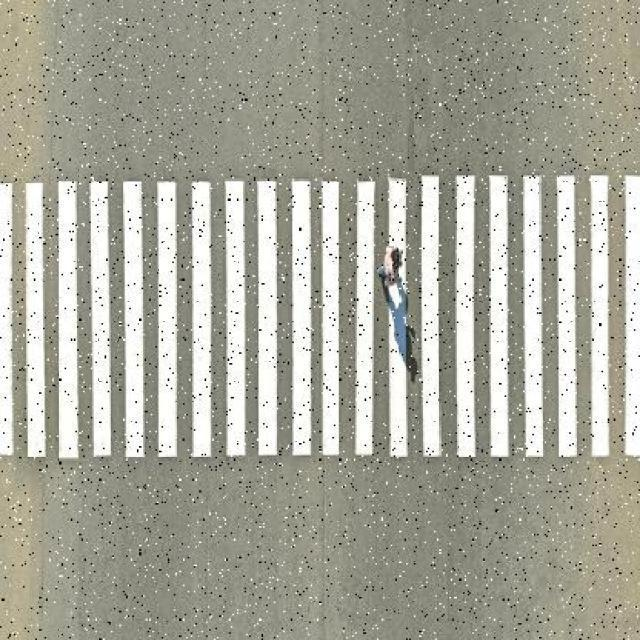Pedestrian crosswalk: (2, 164, 640, 475)
